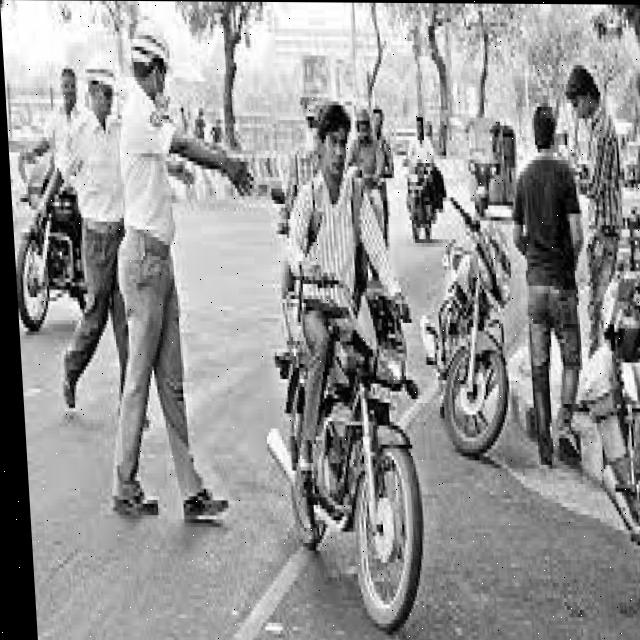without helmet: (310, 94, 352, 192)
